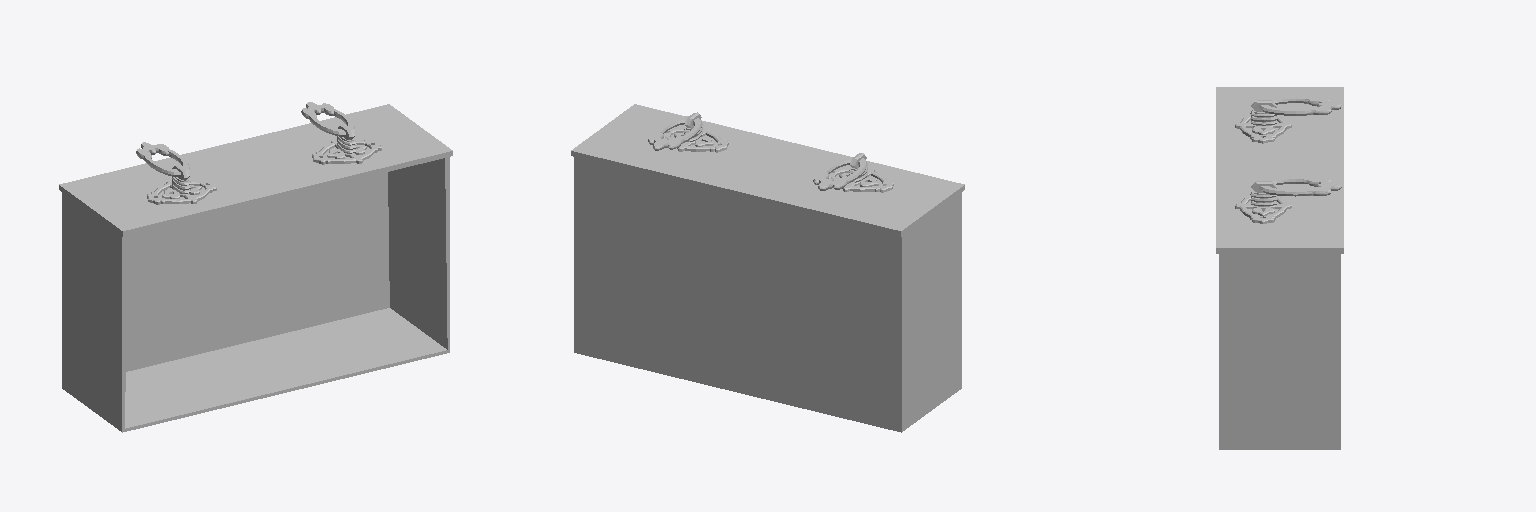
The model's file is FrontDrawer.obj.
3 renders of one model, left to right at view 1: azimuth 30°, elevation 25°; view 2: azimuth 150°, elevation 25°; view 3: azimuth 270°, elevation 25°, orthographic.
Bounding box in the file's own units: 6.08 × 4.03 × 2.04.